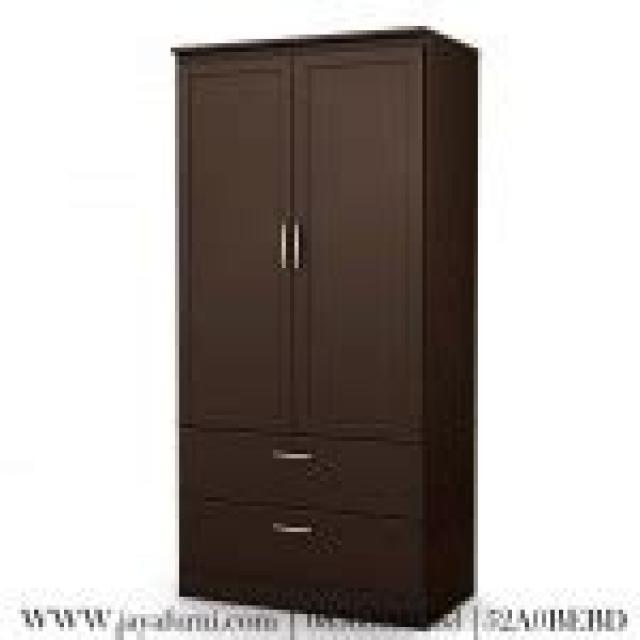Closet: (162, 25, 490, 632)
